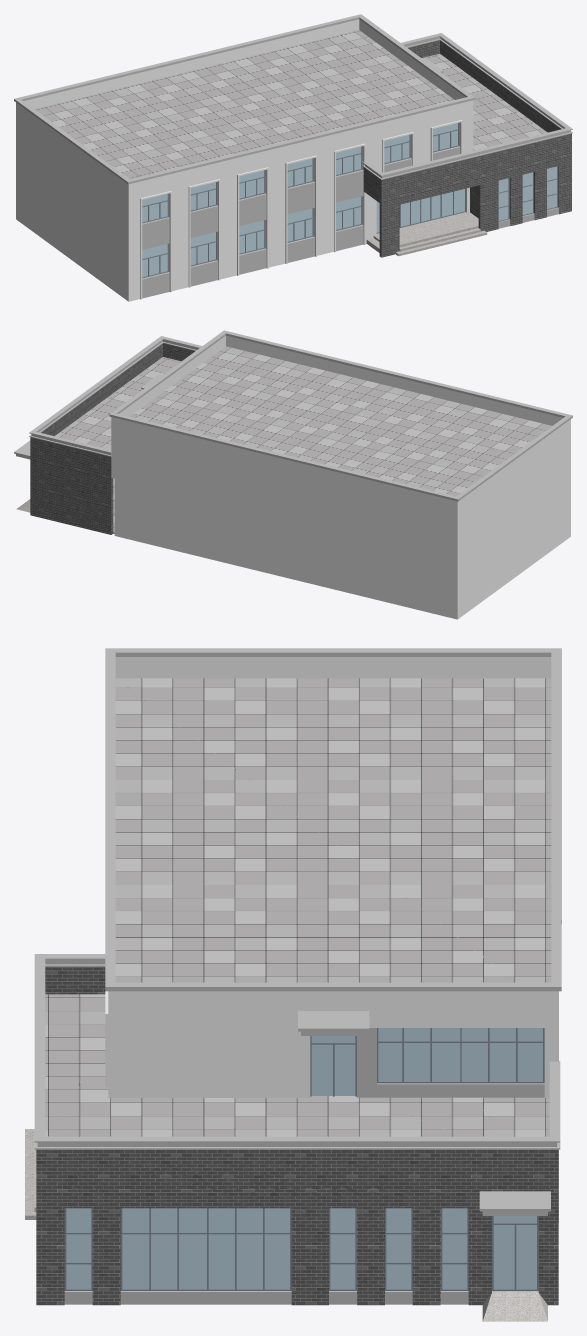
The model's file is 办公楼03.gltf.
3 renders of one model, top to bottom at view 1: azimuth 30°, elevation 25°; view 2: azimuth 150°, elevation 25°; view 3: azimuth 270°, elevation 25°, orthographic. The views are drawn at different scales.
Visible parts, largest first — view 1: 办公楼03; view 2: 办公楼03; view 3: 办公楼03.
Part boxes in pixels (bbox=[...]): 办公楼03: bbox=[14, 14, 572, 301]; 办公楼03: bbox=[14, 330, 572, 619]; 办公楼03: bbox=[25, 648, 561, 1321].
Bounding box in the file's own units: 33.04 × 8.55 × 17.28.
Materials: 7 (3 with a texture image).
